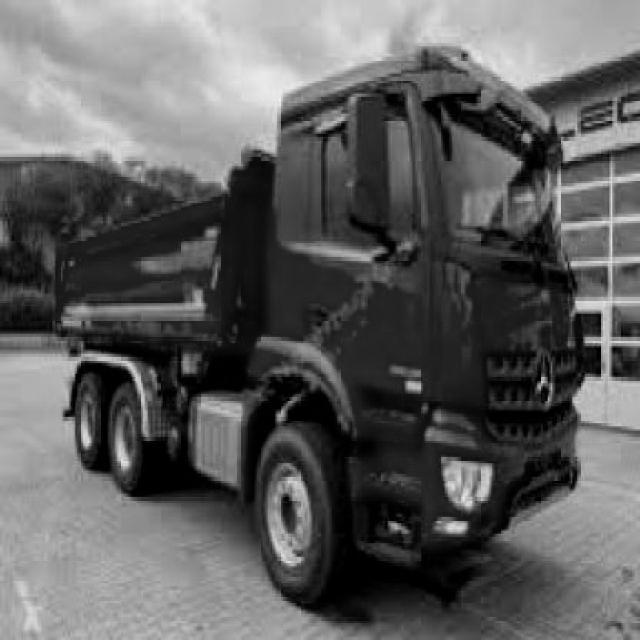Box Truck: (51, 46, 587, 614)
